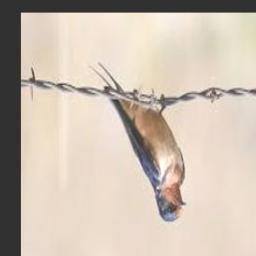Swallow: (89, 64, 187, 222)
